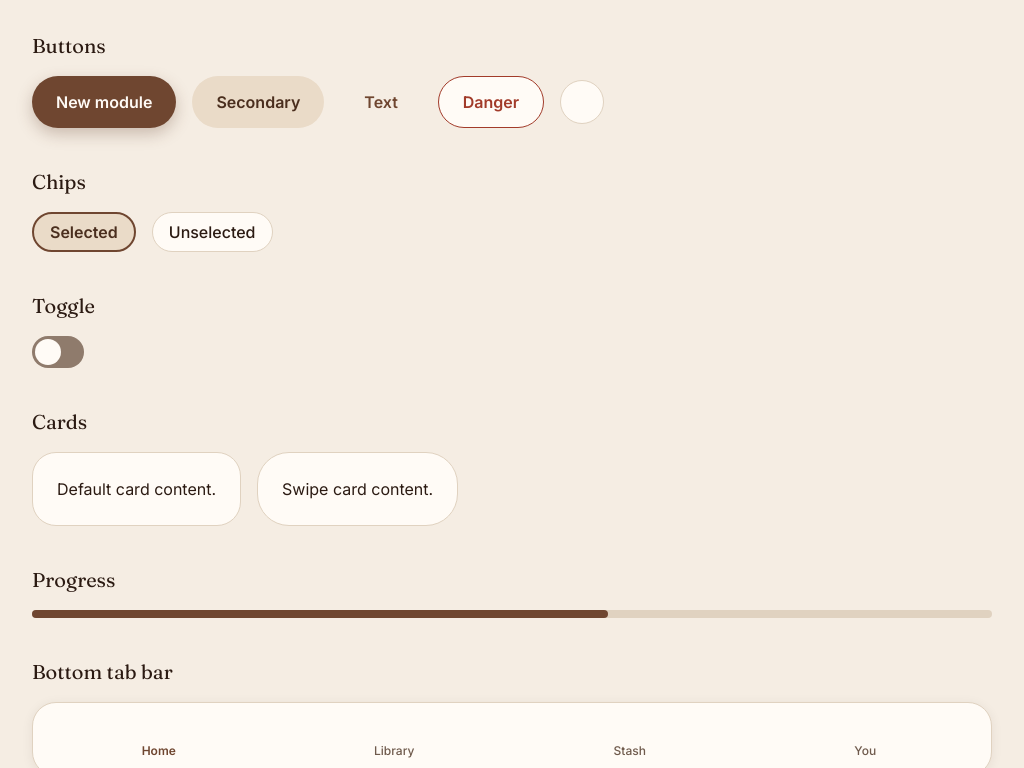
Scenario: design system showcase page › the two chips are mutually exclusive
Click the button "Unselected" at coordinates (212, 232), box top-left (152, 212), bottom-right (272, 252)
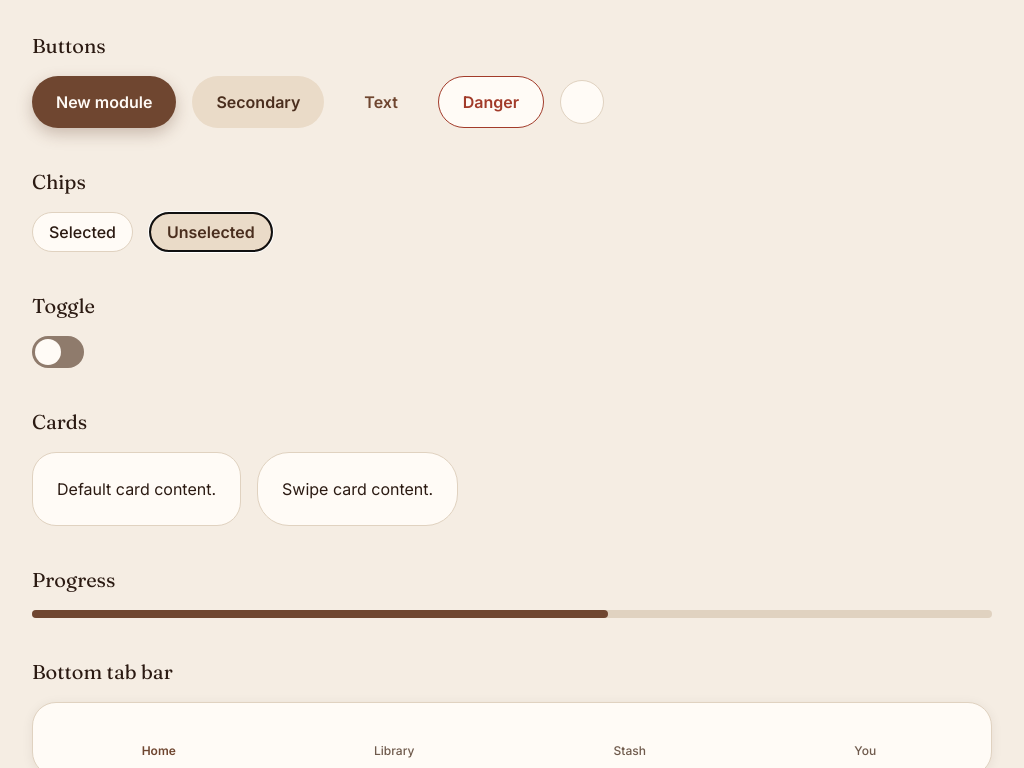
Expected: the button "Selected" is not pressed, top-left (32, 212), bottom-right (133, 252)
Expected: the button "Unselected" is pressed, top-left (149, 212), bottom-right (273, 252)
